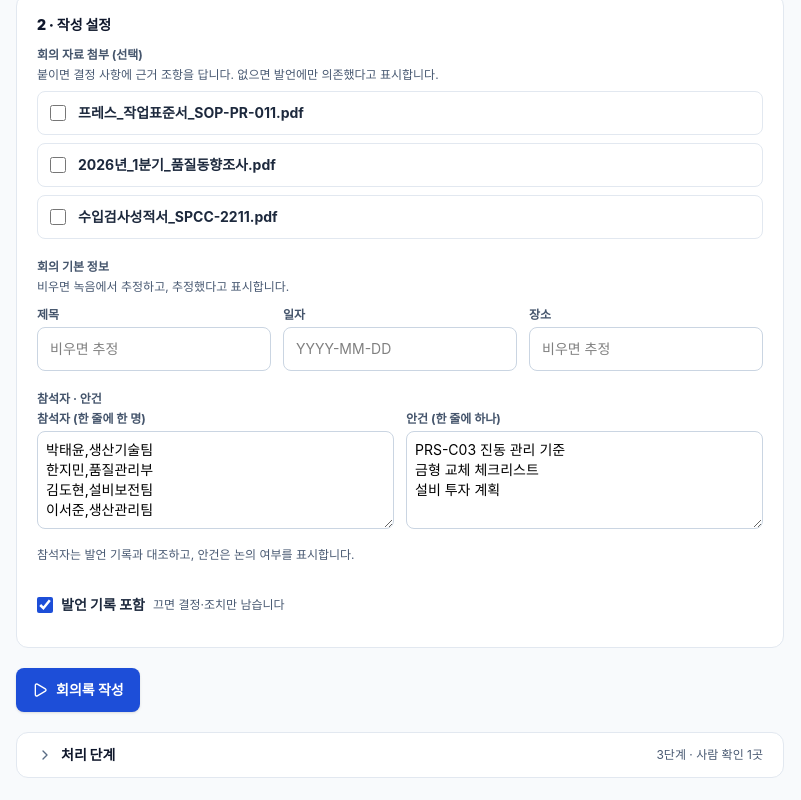
Scenario: MeetingPage › 결정 사항과 조치 항목을 뽑는다
(page scrolled)
Click the button "회의록 작성". click: coordinates (78, 690)
box: [16,668,140,712]
(page scrolled)
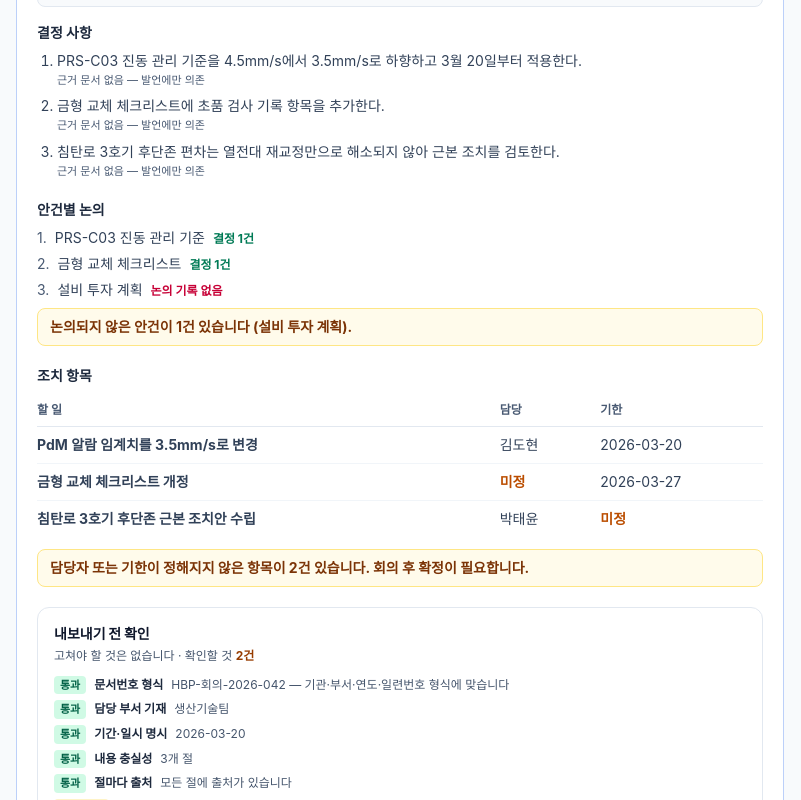
Result: the element "3월 3주 공정회의" shows "진동 관리 기준을 4.5mm/s에서 3.5mm/s로 하향" at [57,52,582,68]
Result: the element "3월 3주 공정회의" shows "PdM 알람 임계치를 3.5mm/s로 변경" at [37,436,258,453]
